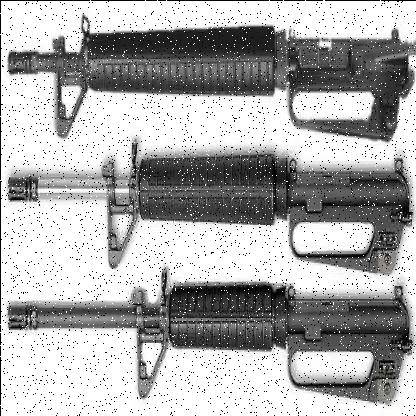rifle: (1, 247, 416, 396), (8, 2, 416, 138), (1, 140, 416, 256)
